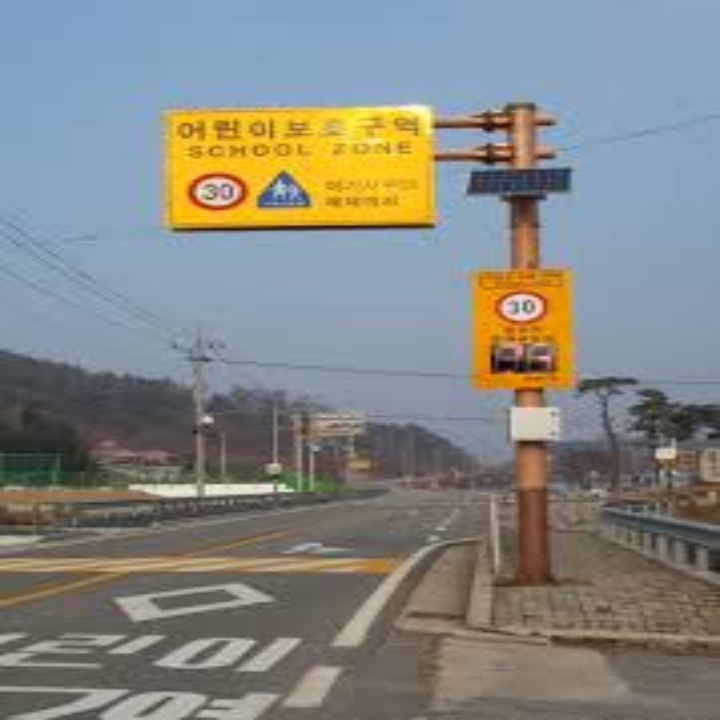child: (255, 165, 309, 219)
